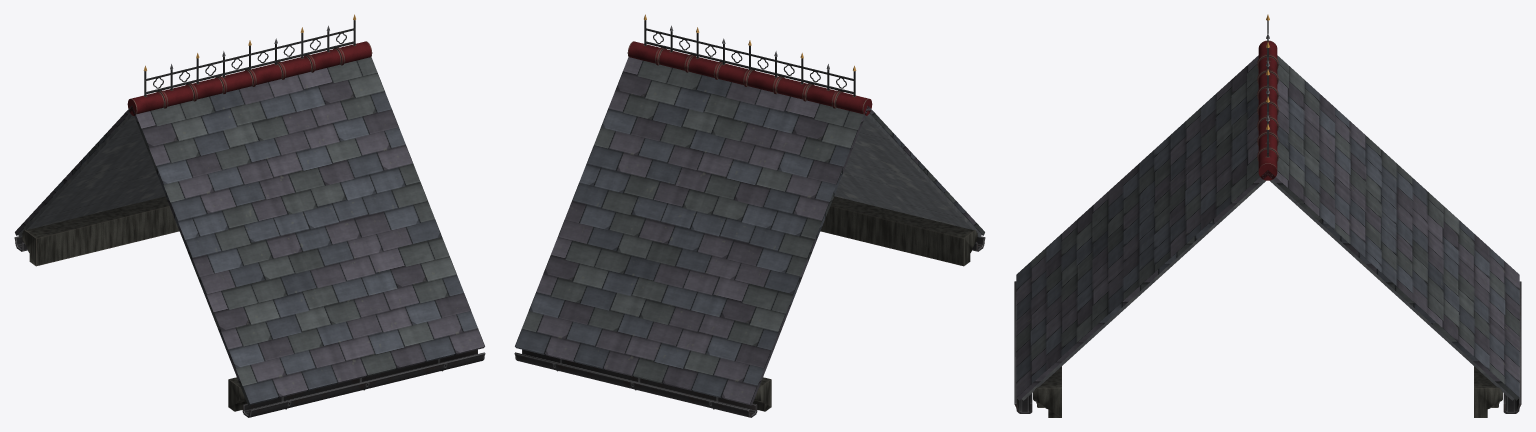
Rendered from GableSection.fbx.
The picture shows the model from 3 angles, left to right: view 1: azimuth 30°, elevation 25°; view 2: azimuth 150°, elevation 25°; view 3: azimuth 270°, elevation 25°; orthographic projection. The views are drawn at different scales.
Parts seen in each view (by area): view 1: GableSection_Slate, GableSection_Main, GableSection_Lead; view 2: GableSection_Slate, GableSection_Main, GableSection_Lead; view 3: GableSection_Slate, GableSection_Main, GableSection_Lead.
Boxes of the visible parts, x1,y1,x2,y2 form: GableSection_Slate: (15,57,484,405); GableSection_Main: (14,14,485,417); GableSection_Lead: (18,114,245,398); GableSection_Slate: (515,57,984,405); GableSection_Main: (514,14,985,417); GableSection_Lead: (754,114,981,398); GableSection_Slate: (1016,55,1519,400); GableSection_Main: (1014,14,1521,417); GableSection_Lead: (1022,180,1513,400).
Size of the model in its own units: 800 by 871 by 1392.
